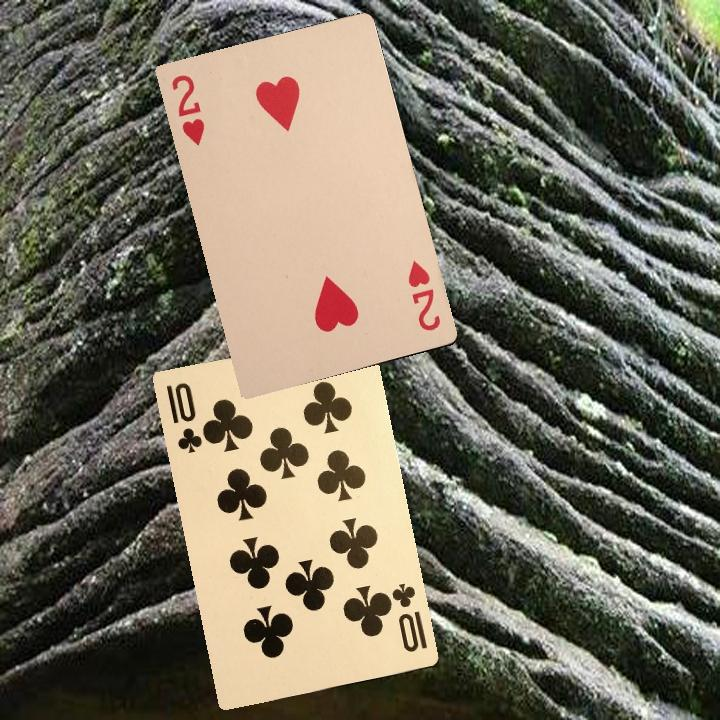10c: (381, 579, 430, 655), (162, 378, 208, 455)
2h: (167, 70, 207, 149), (404, 257, 443, 334)
